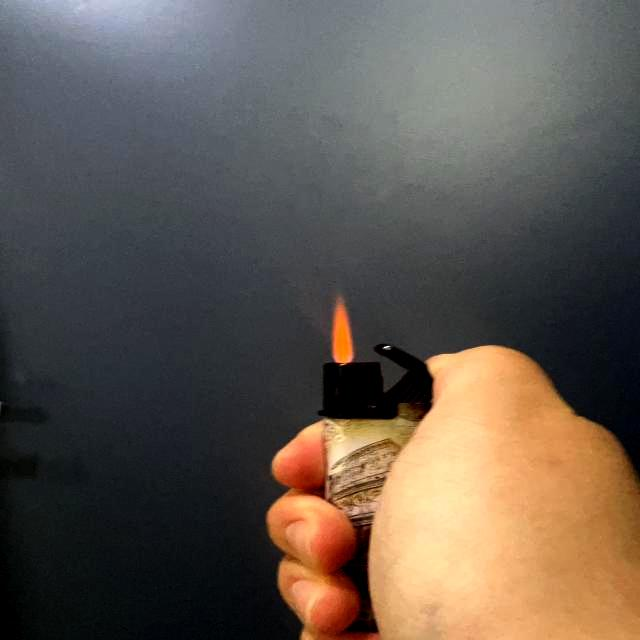fire: (328, 294, 356, 362)
